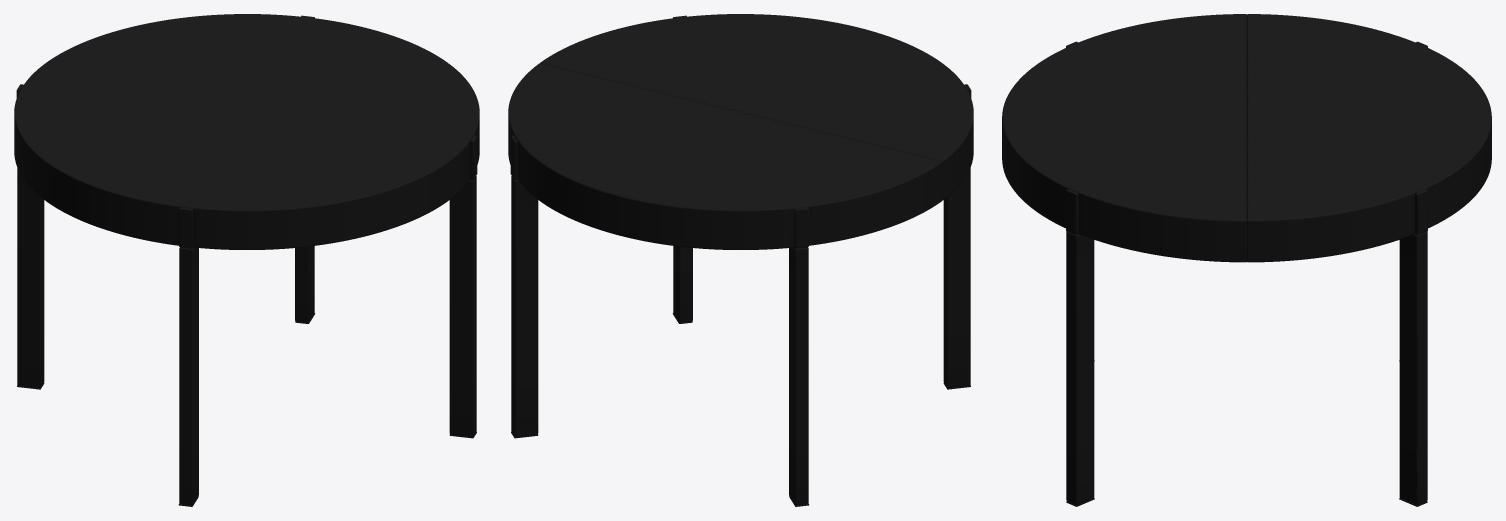
Rendered from Oxford Round Extending Dining table.FBX.
3 renders of one model, left to right at view 1: azimuth 30°, elevation 25°; view 2: azimuth 150°, elevation 25°; view 3: azimuth 270°, elevation 25°, orthographic. The views are drawn at different scales.
Parts seen in each view (by area): view 1: Gray; view 2: Gray; view 3: Gray.
Boxes of the visible parts, x1=… form: Gray: x1=14, y1=14, x2=479, y2=506; Gray: x1=508, y1=14, x2=973, y2=506; Gray: x1=1002, y1=14, x2=1491, y2=506.
Size of what is drawn, in the model's own units: 107 by 75.88 by 107.
